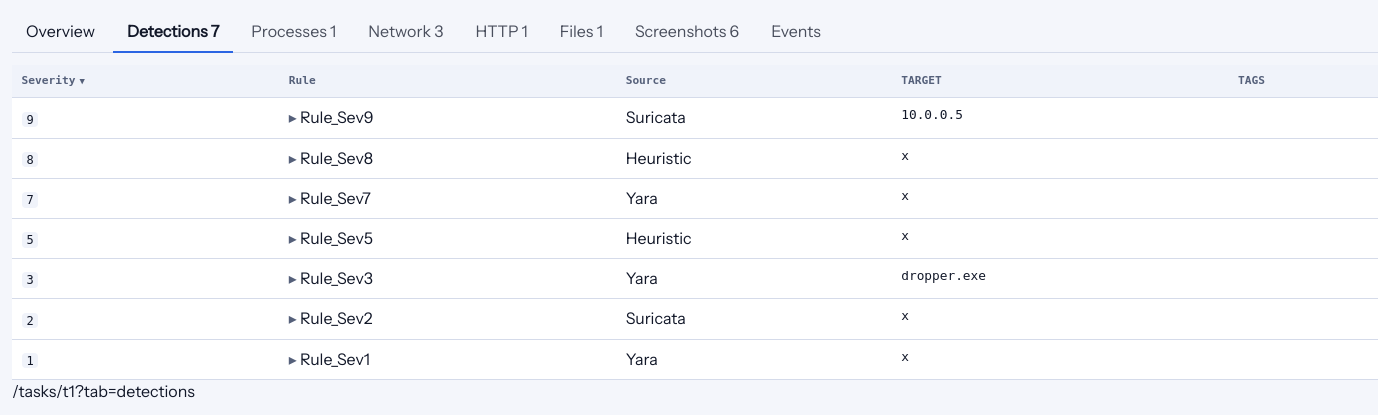
it: TaskReport › sorts detections by severity, descending first
Click the button "Severity ▼".
click(53, 81)  # box [22,73,85,89]
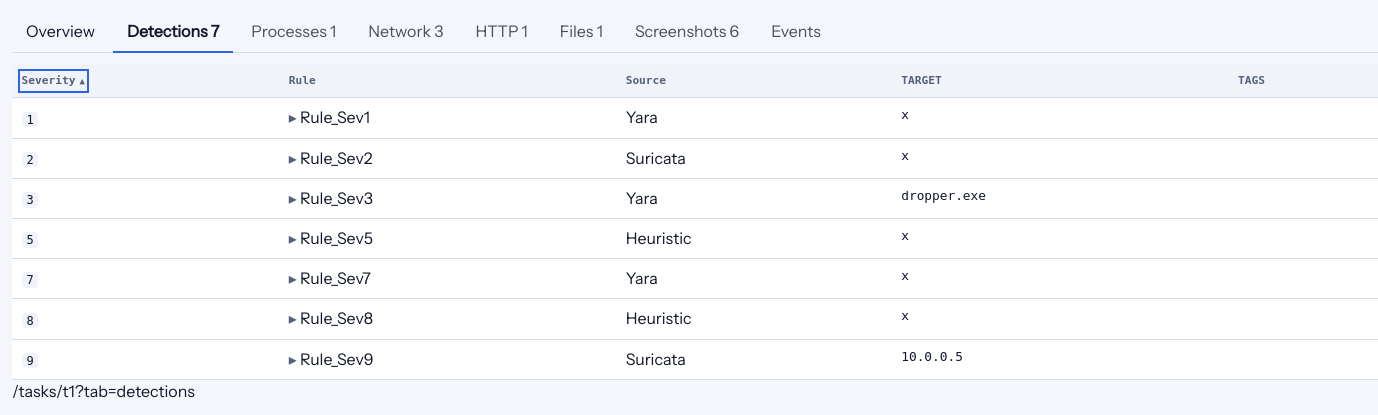
Expected: the button "Rule_Sev1" is shown, [289,106,370,130]
Click the button "Rule".
click(302, 81)  # box [289,73,316,89]
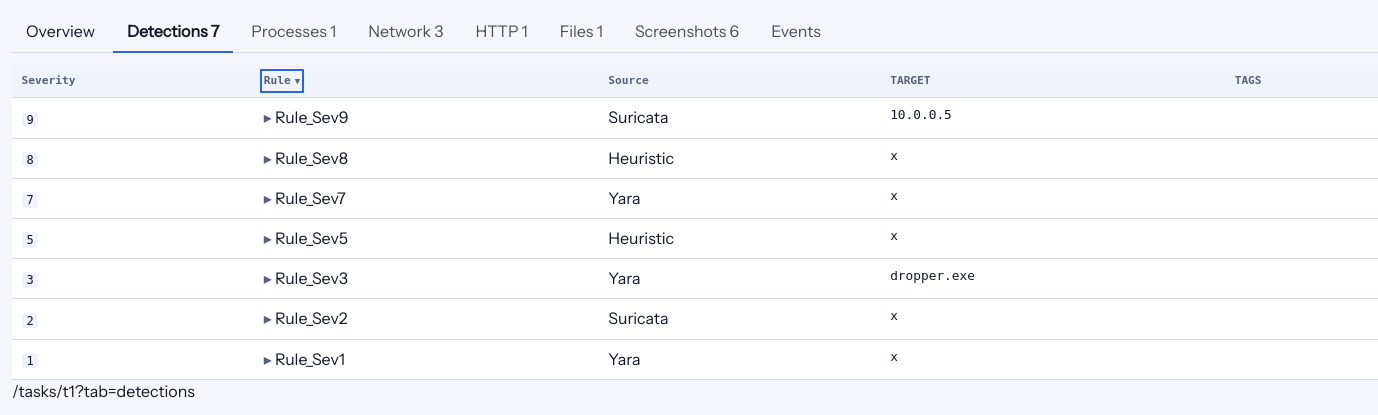
Expected: the button "Rule_Sev9" is shown, [264,106,349,130]
